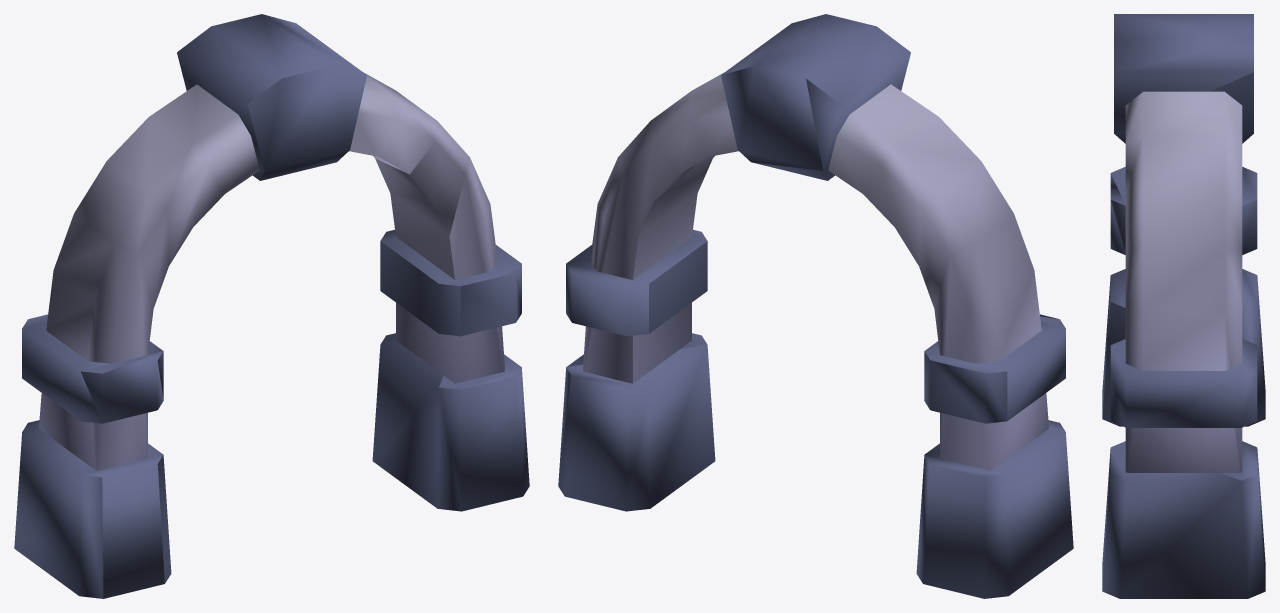
Rendered from gate.fbx.
3 renders of one model, left to right at view 1: azimuth 30°, elevation 25°; view 2: azimuth 150°, elevation 25°; view 3: azimuth 270°, elevation 25°, orthographic.
Visible parts, largest first — view 1: gate; view 2: gate; view 3: gate.
Part boxes in pixels (x1,y1,x2,y2): gate: (14,14,529,598); gate: (558,14,1073,598); gate: (1102,14,1265,598).
Bounding box in the file's own units: 440 × 440 × 140.
